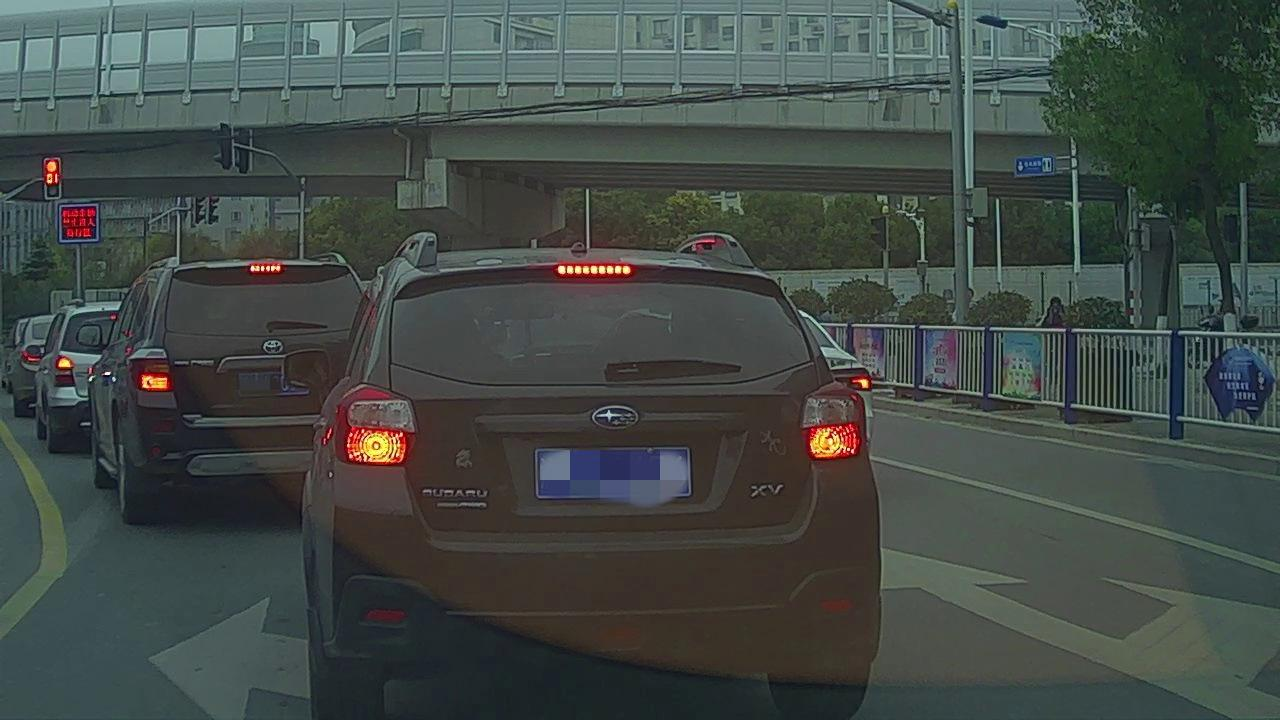traffic_light: (45, 160, 59, 198)
